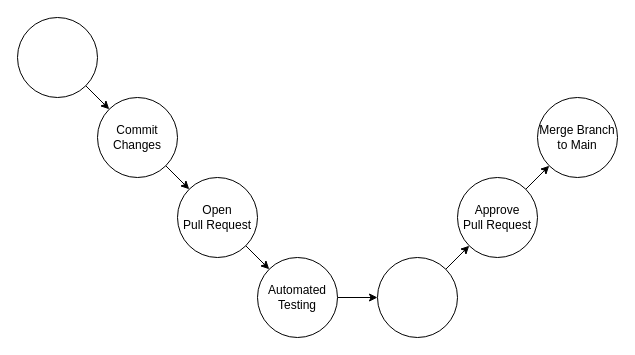
Some shapes in this 635 by 355 pixel diagram are drawn without their labels. The centre of each missing label's shape, as x and y in pixels:
"Checkout Branch" goes at [57,57].
"Personal Review" goes at [417,297].
